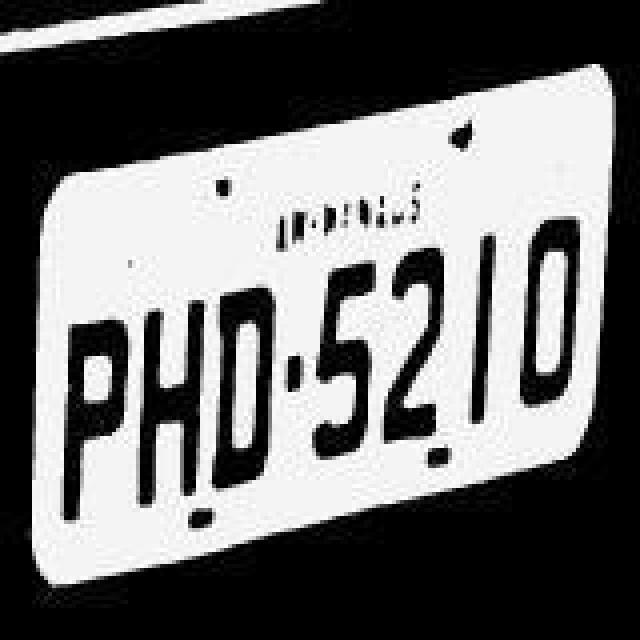1: (464, 202, 504, 446)
2: (384, 224, 448, 448)
5: (304, 244, 376, 468)
D: (212, 264, 284, 504)
H: (130, 278, 206, 522)
O: (508, 196, 588, 412)
P: (56, 294, 136, 554)
